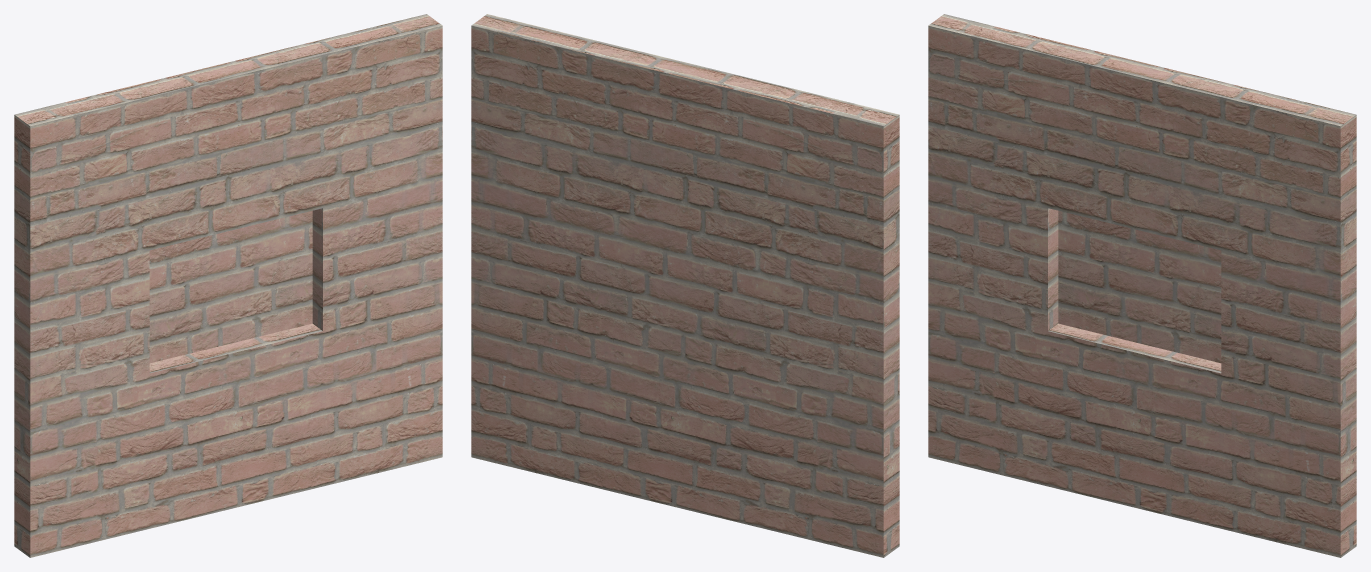
The model's file is WallSmallHole.fbx.
3 renders of one model, left to right at view 1: azimuth 30°, elevation 25°; view 2: azimuth 150°, elevation 25°; view 3: azimuth 330°, elevation 25°, orthographic.
Parts seen in each view (by area): view 1: WallSmallHole; view 2: WallSmallHole; view 3: WallSmallHole.
Part boxes in pixels (x1,y1,x2,y2): WallSmallHole: (14, 14, 442, 557); WallSmallHole: (471, 14, 899, 557); WallSmallHole: (928, 14, 1356, 557).
Bounding box in the file's own units: 300 × 300 × 20.
Materials: 1 (1 with a texture image).
